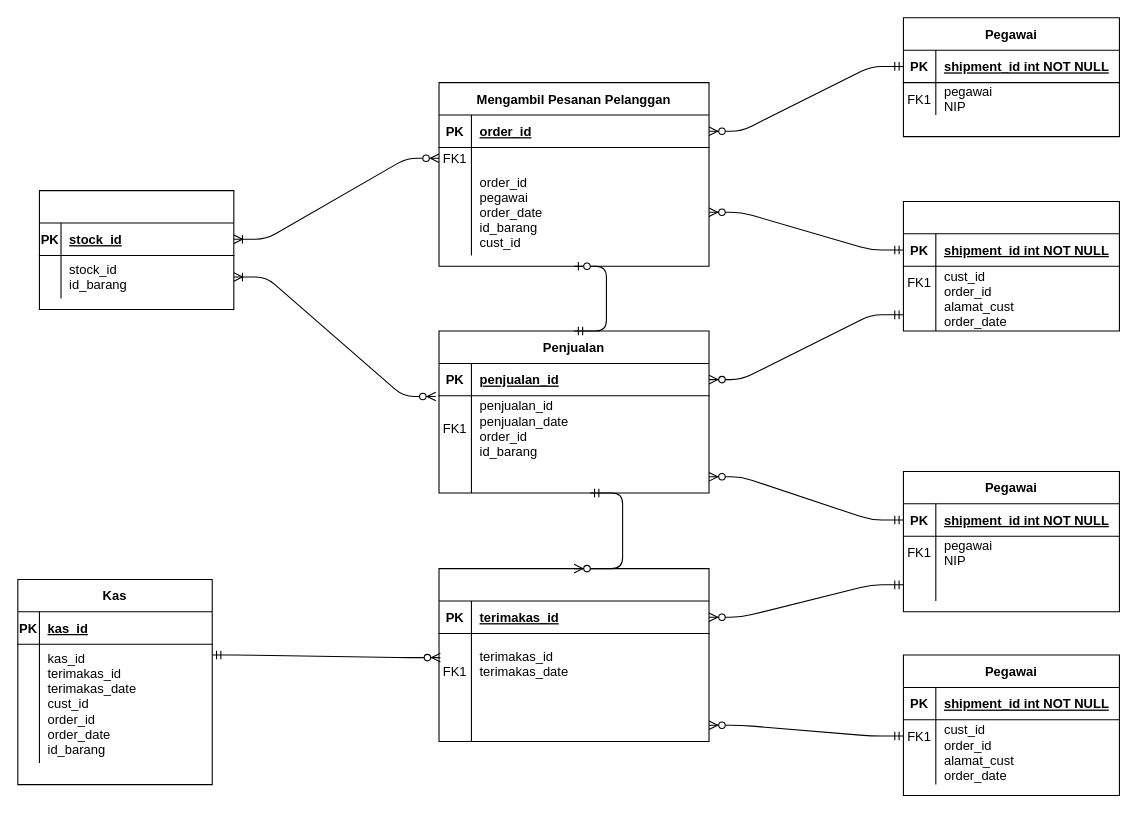
Some shapes in this 1137 by 813 pixel diagram are drawn without their labels. Here are the shapes that lost their labels. From the top down, the box of each, then its label:
(38, 190, 234, 309): Persediaan
(902, 200, 1119, 331): Pelanggan
(438, 568, 709, 741): Menerima Kas
